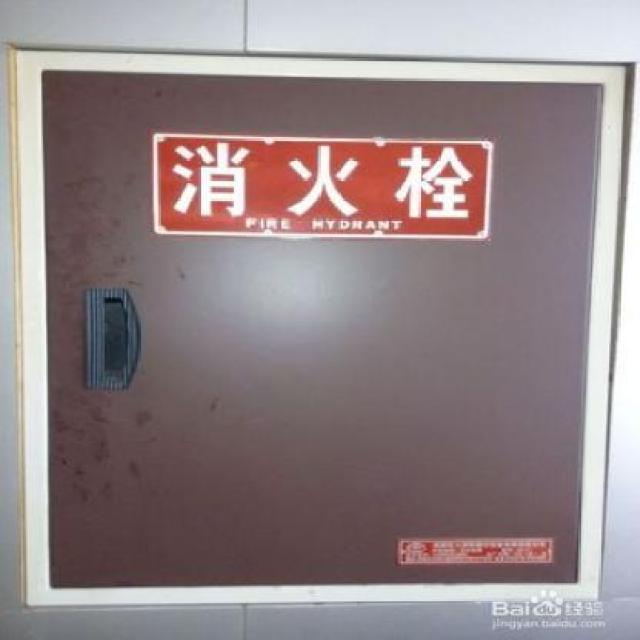firehydrant: (3, 37, 640, 615)
